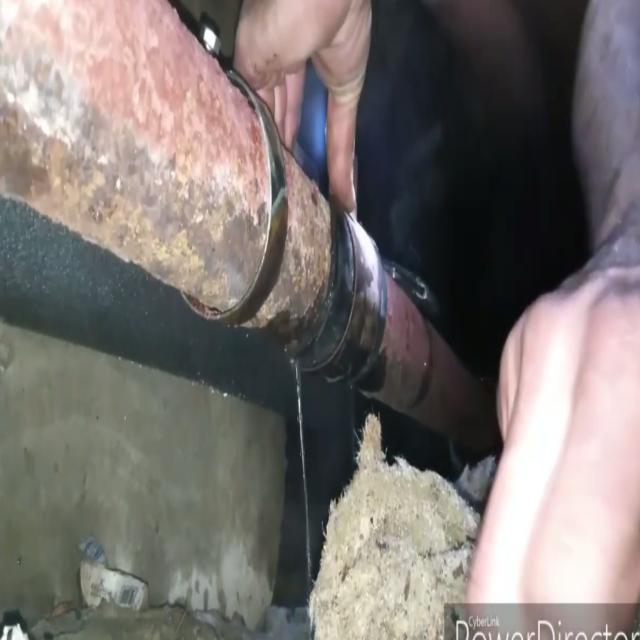leak: (295, 360, 311, 599)
